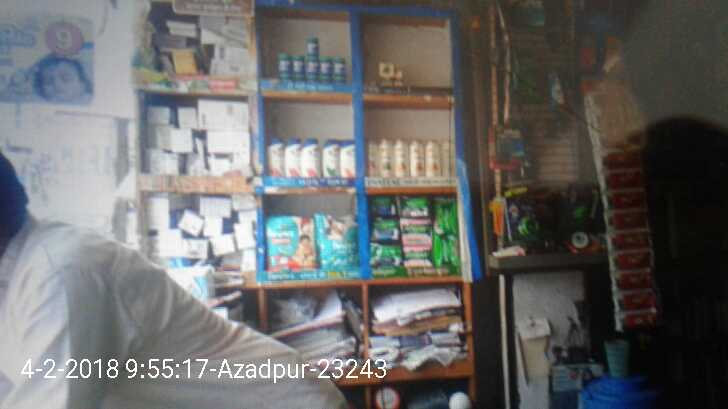vicks: (280, 34, 344, 83)
